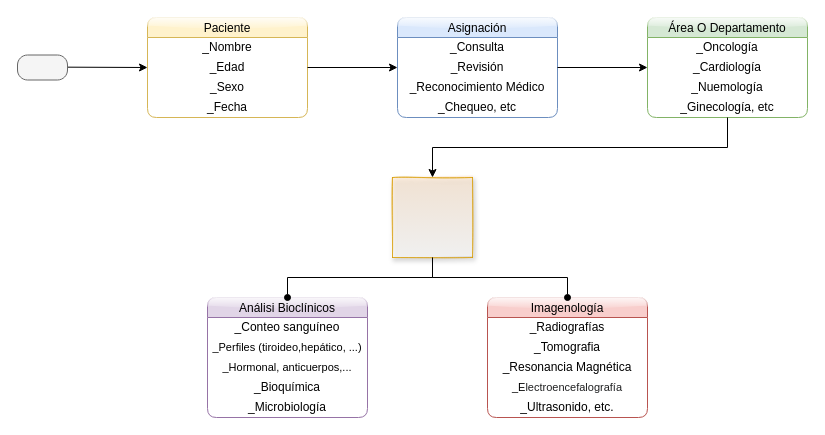
Some shapes in this 825 by 435 pixel diagram are drawn without their labels. The shapes that lost their labels are listed below. From the top down, each one's centre as x and y in pixels, then its label:
At point 42,67: "Inicio".
At point 433,218: "Estudios".
